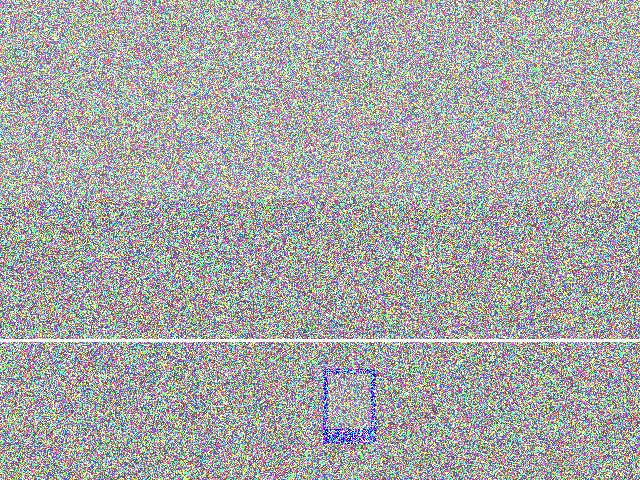bus: (177, 116, 314, 243)
truck: (142, 153, 227, 276)
